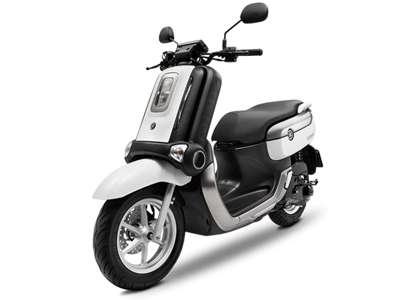motorcycle: (92, 36, 320, 291)
